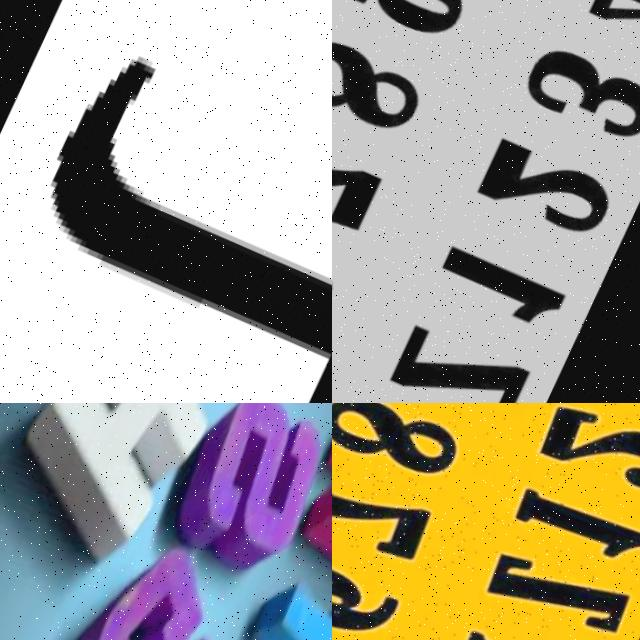1: (411, 223, 596, 352), (499, 467, 640, 590)
2: (462, 126, 636, 260), (516, 403, 640, 526)
3: (502, 29, 640, 161)
4: (553, 0, 640, 69)
6: (332, 527, 430, 640)
7: (332, 446, 463, 594), (332, 112, 404, 246)
8: (332, 403, 496, 517), (332, 18, 458, 156)
9: (332, 0, 497, 57)
A: (278, 403, 332, 592)
G: (15, 523, 258, 640)
H: (0, 403, 257, 592)
S: (156, 403, 332, 588)
T: (0, 33, 332, 403), (204, 546, 332, 640)
